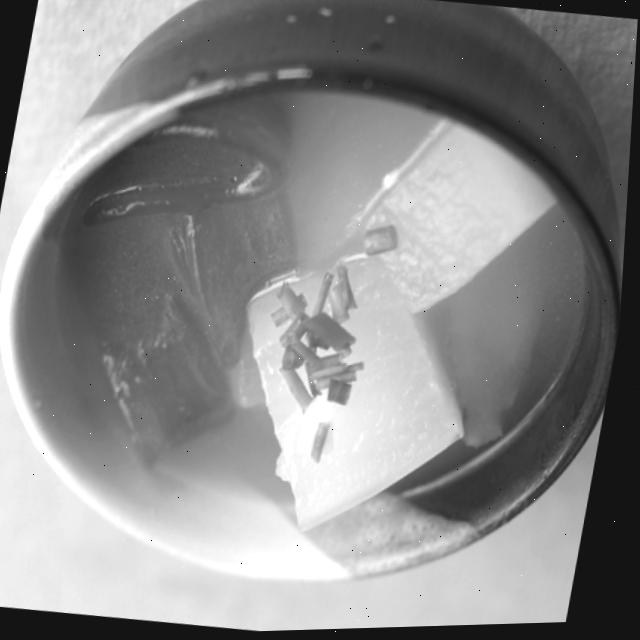汤锅炖物: (34, 67, 600, 566)
